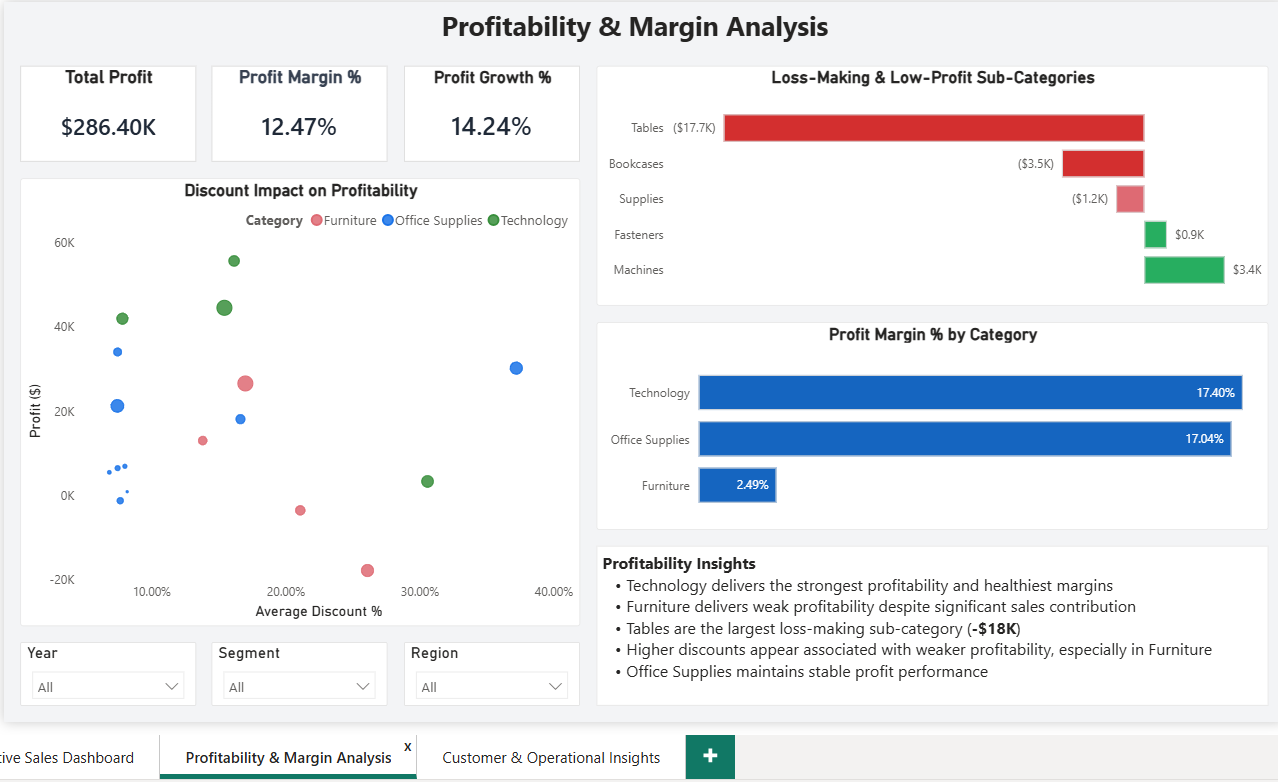

What the dashboard file says about the page in this screenshot:
{"tool":"powerbi","page":{"name":"Profitability & Margin Analysis","canvas":[1280,720],"ordinal":1},"visuals":[{"type":"clusteredBarChart","title":"Loss-Making & Low-Profit Sub-Categories","fields":{"Category":["Sample - Superstore.Sub-Category"],"Y":["Sample - Superstore.Total Profit"]},"box":[592,64,672,240],"z":0},{"type":"scatterChart","title":"Discount Impact on Profitability","fields":{"Category":["Sample - Superstore.Sub-Category"],"X":["Avg(Sample - Superstore.Discount)"],"Series":["Sample - Superstore.Category"],"Y":["Sample - Superstore.Total Profit"],"Size":["Sample - Superstore.Total Sales"]},"box":[16,176,560,448],"z":1000},{"type":"slicer","title":"Year","fields":{"Values":["DimDate.Year"]},"box":[16,640,176,64],"z":2000},{"type":"slicer","title":"Region","fields":{"Values":["Sample - Superstore.Region"]},"box":[400,640,176,64],"z":3000},{"type":"slicer","title":"Segment","fields":{"Values":["Sample - Superstore.Segment"]},"box":[208,640,176,64],"z":4000},{"type":"clusteredBarChart","fields":{"Category":["Sample - Superstore.Category"],"Y":["Sample - Superstore.Profit Margin %"]},"box":[592,320,672,208],"z":5000},{"type":"textbox","box":[592,544,672,160],"z":6000},{"type":"textbox","box":[432,0,400,48],"z":7000},{"type":"cardVisual","title":"Total Profit","fields":{"Data":["Sample - Superstore.Total Profit"]},"box":[16,64,176,96],"z":8000},{"type":"cardVisual","title":"Profit Margin %","fields":{"Data":["Sample - Superstore.Profit Margin %"]},"box":[208,64,176,96],"z":9000},{"type":"cardVisual","title":"Profit Growth %","fields":{"Data":["Sample - Superstore.Profit Growth %"]},"box":[400,64,176,96],"z":10000}]}

Visuals, with their boxes on the page's 1280x720 design canvas (x1, y1, x2, y2). These are canvas units, not pixel positions in the 1278x782 screenshot, which may show the page scaled, cropped or inside an application window:
"Loss-Making & Low-Profit Sub-Categories" clusteredBarChart: left=592, top=64, right=1264, bottom=304
"Discount Impact on Profitability" scatterChart: left=16, top=176, right=576, bottom=624
"Year" slicer: left=16, top=640, right=192, bottom=704
"Region" slicer: left=400, top=640, right=576, bottom=704
"Segment" slicer: left=208, top=640, right=384, bottom=704
clusteredBarChart - Sample - Superstore.Category x Sample - Superstore.Profit Margin %: left=592, top=320, right=1264, bottom=528
textbox: left=592, top=544, right=1264, bottom=704
textbox: left=432, top=0, right=832, bottom=48
"Total Profit" cardVisual: left=16, top=64, right=192, bottom=160
"Profit Margin %" cardVisual: left=208, top=64, right=384, bottom=160
"Profit Growth %" cardVisual: left=400, top=64, right=576, bottom=160
